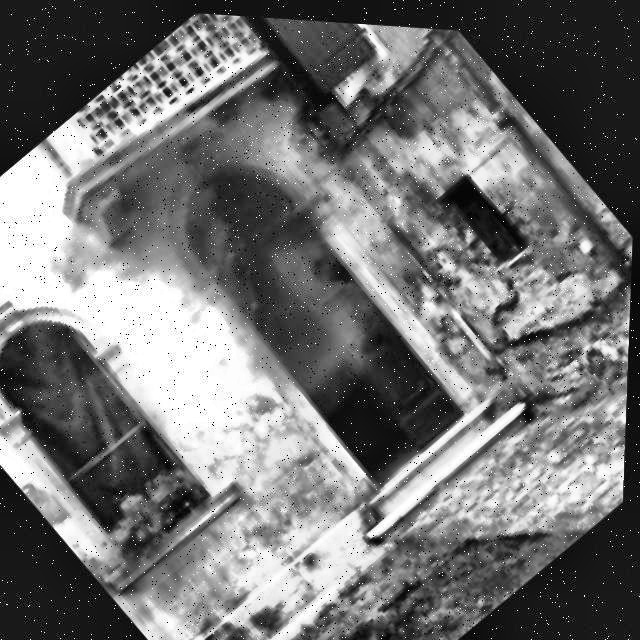Smoke: (0, 10, 505, 566)
